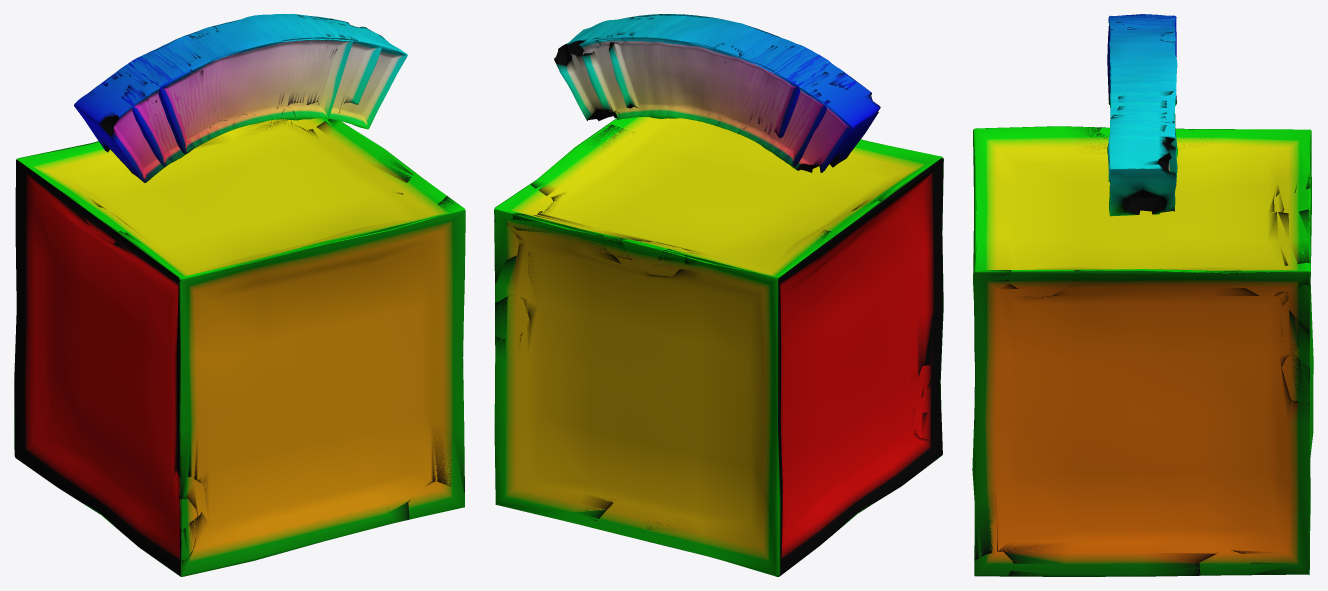
File: wildroot_reliquary.glb
3 renders of one model, left to right at view 1: azimuth 30°, elevation 25°; view 2: azimuth 150°, elevation 25°; view 3: azimuth 270°, elevation 25°, orthographic. The views are drawn at different scales.
Visible parts, largest first — view 1: Reliquary_Cube_A, Reliquary_Slab_C, Reliquary_Slab_A, Reliquary_Slab_B, Reliquary_Cube_B, Reliquary_Cube_C; view 2: Reliquary_Cube_A, Reliquary_Slab_C, Reliquary_Slab_A, Reliquary_Slab_B, Reliquary_Cube_C, Reliquary_Cube_B; view 3: Reliquary_Cube_A, Reliquary_Slab_C, Reliquary_Cube_B, Reliquary_Slab_A, Reliquary_Cube_C, Reliquary_Slab_B.
Boxes of the visible parts, bbox=[...] form: Reliquary_Cube_A: bbox=[14, 118, 465, 576]; Reliquary_Slab_C: bbox=[74, 14, 407, 182]; Reliquary_Slab_A: bbox=[102, 14, 381, 166]; Reliquary_Slab_B: bbox=[128, 14, 353, 154]; Reliquary_Cube_B: bbox=[90, 131, 464, 574]; Reliquary_Cube_C: bbox=[57, 119, 340, 575]; Reliquary_Cube_A: bbox=[494, 117, 943, 576]; Reliquary_Slab_C: bbox=[554, 14, 880, 172]; Reliquary_Slab_A: bbox=[581, 14, 856, 166]; Reliquary_Slab_B: bbox=[608, 14, 830, 138]; Reliquary_Cube_C: bbox=[494, 180, 943, 454]; Reliquary_Cube_B: bbox=[494, 124, 943, 555]; Reliquary_Cube_A: bbox=[972, 126, 1313, 576]; Reliquary_Slab_C: bbox=[1107, 14, 1177, 216]; Reliquary_Cube_B: bbox=[973, 172, 1310, 576]; Reliquary_Slab_A: bbox=[1107, 15, 1177, 185]; Reliquary_Cube_C: bbox=[974, 126, 1310, 432]; Reliquary_Slab_B: bbox=[1107, 16, 1177, 157].
Bounding box in the file's own units: 1.06 × 1.51 × 1.01.
